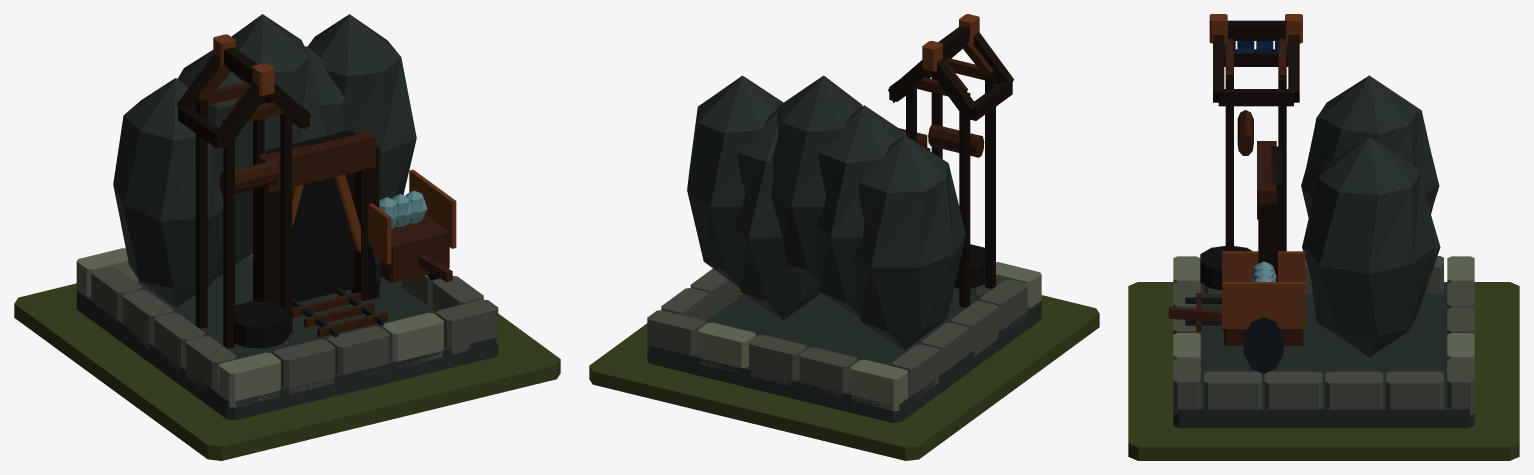
File: deephole_t1.glb
3 renders of one model, left to right at view 1: azimuth 30°, elevation 25°; view 2: azimuth 150°, elevation 25°; view 3: azimuth 270°, elevation 25°, orthographic. The views are drawn at different scales.
Visible parts, largest first — view 1: MMR | deephole | T01 Architecture.001, MMR | deephole | Tier 01 Ground.001; view 2: MMR | deephole | T01 Architecture.001, MMR | deephole | Tier 01 Ground.001; view 3: MMR | deephole | T01 Architecture.001, MMR | deephole | Tier 01 Ground.001.
Part boxes in pixels (x1=…): MMR | deephole | T01 Architecture.001: x1=76, y1=14, x2=498, y2=420; MMR | deephole | Tier 01 Ground.001: x1=14, y1=283, x2=560, y2=460; MMR | deephole | T01 Architecture.001: x1=647, y1=14, x2=1041, y2=422; MMR | deephole | Tier 01 Ground.001: x1=589, y1=295, x2=1099, y2=460; MMR | deephole | T01 Architecture.001: x1=1168, y1=14, x2=1474, y2=428; MMR | deephole | Tier 01 Ground.001: x1=1128, y1=282, x2=1519, y2=460.
Bounding box in the file's own units: 1.3 × 1.19 × 1.3.
Materials: 1 (1 with a texture image).
